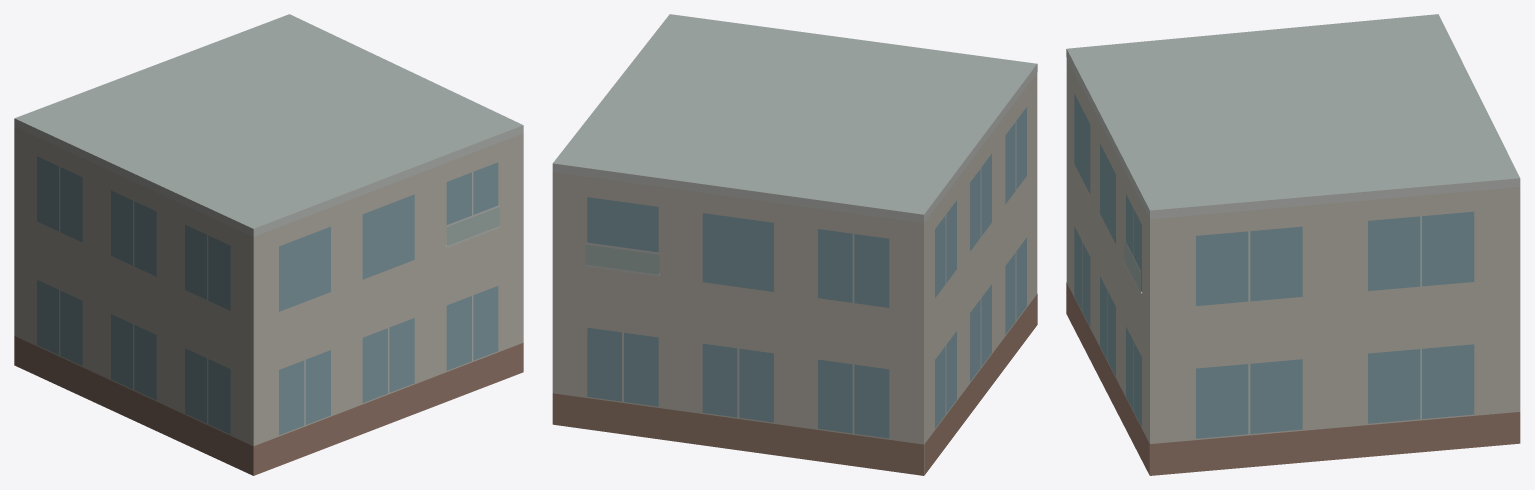
The model's file is survey-upis-32896135.glb.
3 renders of one model, left to right at view 1: azimuth 30°, elevation 25°; view 2: azimuth 150°, elevation 25°; view 3: azimuth 270°, elevation 25°, orthographic. The views are drawn at different scales.
Visible parts, largest first — view 1: survey-upis-32896135.tmp; view 2: survey-upis-32896135.tmp; view 3: survey-upis-32896135.tmp.
Part boxes in pixels (x1=…): survey-upis-32896135.tmp: x1=14, y1=14, x2=523, y2=475; survey-upis-32896135.tmp: x1=552, y1=14, x2=1037, y2=475; survey-upis-32896135.tmp: x1=1066, y1=14, x2=1520, y2=475.
Size of the model in its own units: 11.92 by 7.5 by 11.64.
